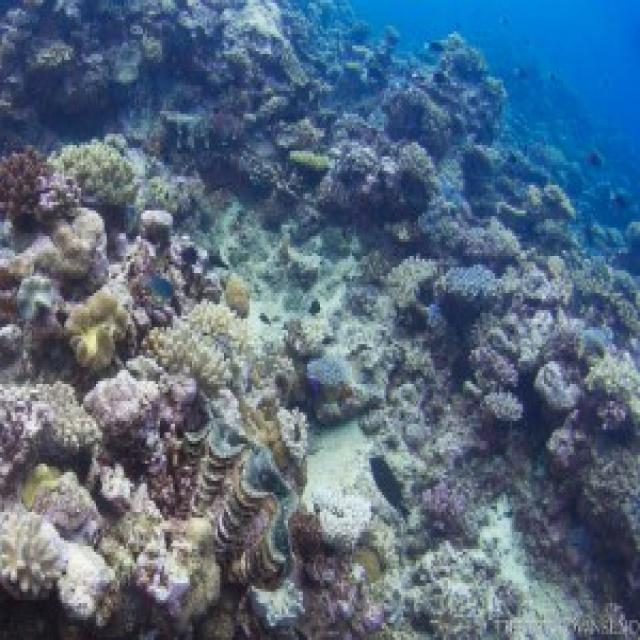Bleached: (408, 541, 519, 638), (308, 490, 374, 547), (253, 578, 304, 627), (536, 362, 581, 411), (280, 408, 306, 465)
Healthy: (172, 405, 298, 584), (1, 382, 101, 479), (84, 371, 195, 456), (577, 448, 639, 598), (319, 138, 432, 217), (127, 211, 206, 314), (3, 209, 108, 283), (1, 504, 67, 595), (146, 322, 231, 391), (56, 544, 123, 627), (52, 140, 135, 206), (1, 149, 76, 220), (187, 300, 257, 376), (69, 288, 133, 371), (571, 260, 639, 337), (29, 473, 97, 536), (138, 539, 189, 615), (588, 354, 639, 422), (440, 266, 498, 325), (504, 311, 556, 371), (504, 263, 571, 305), (385, 257, 436, 308), (472, 345, 517, 388), (400, 146, 436, 194), (483, 394, 522, 419)
